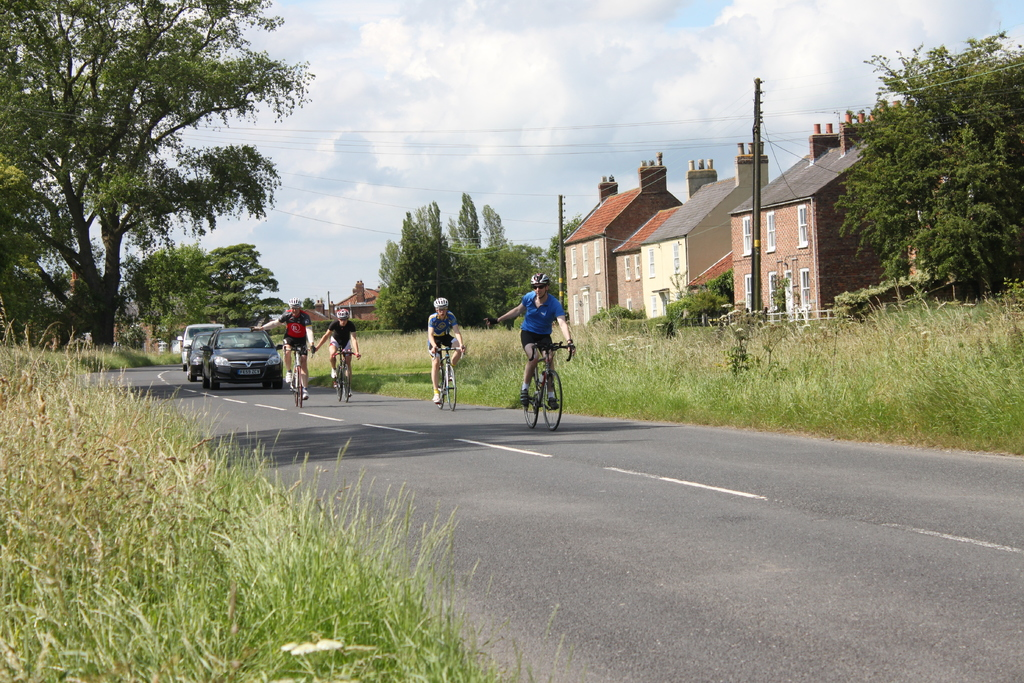Bike_toward: (515, 342, 574, 431), (427, 343, 470, 411), (279, 343, 316, 407), (331, 346, 360, 401)
